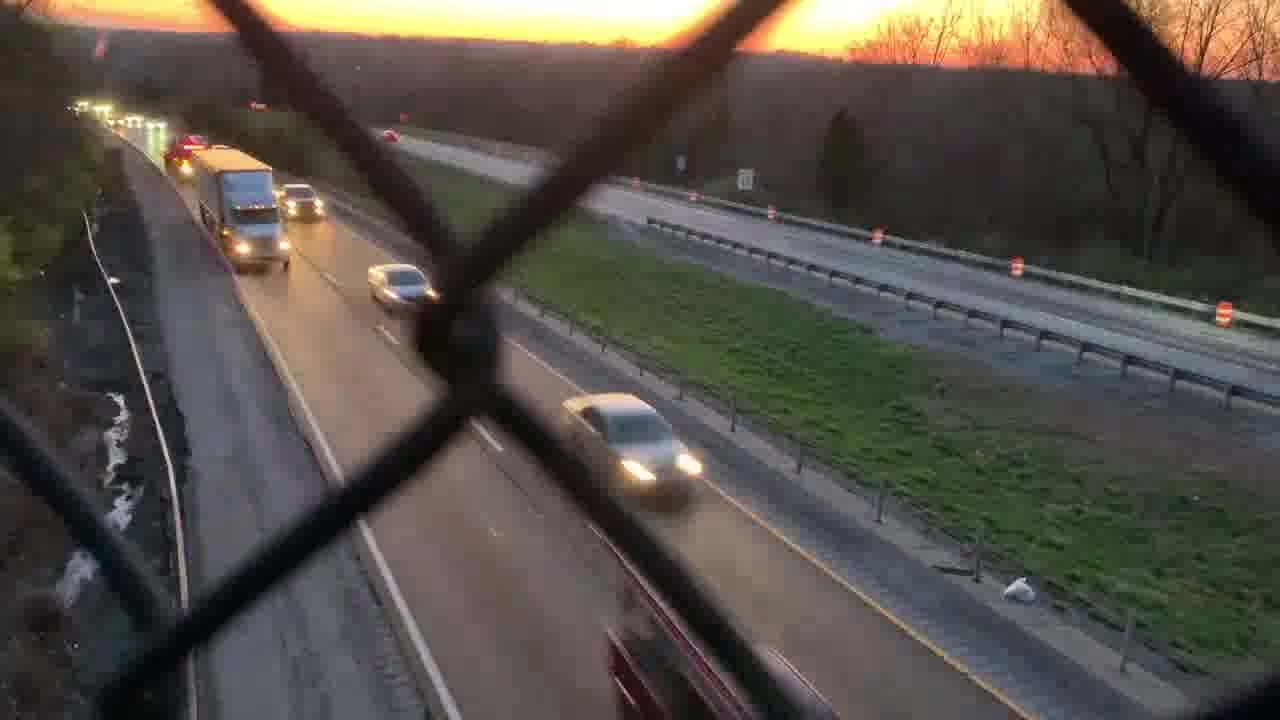heavyTruck: (186, 147, 291, 275)
lightTruck: (282, 182, 331, 227)
smallCar: (557, 390, 721, 505), (364, 258, 439, 315)
